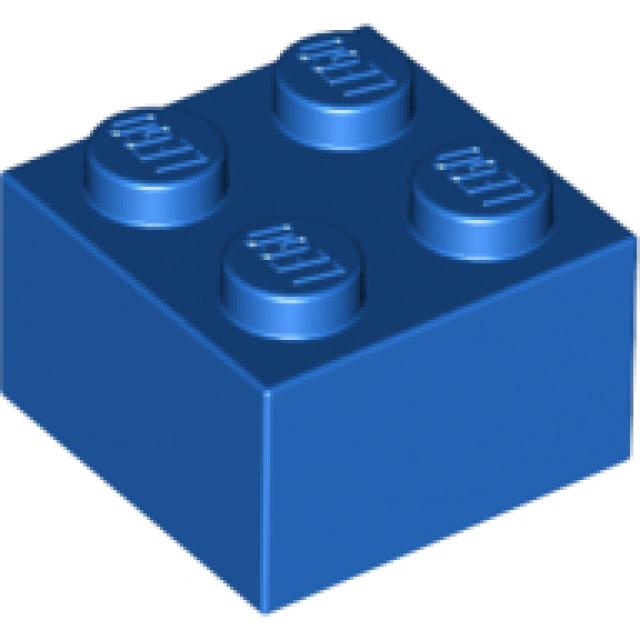Blue_Medium: (3, 23, 637, 617)
